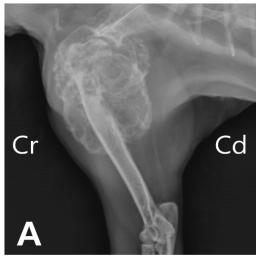cancer: (45, 25, 152, 156)
